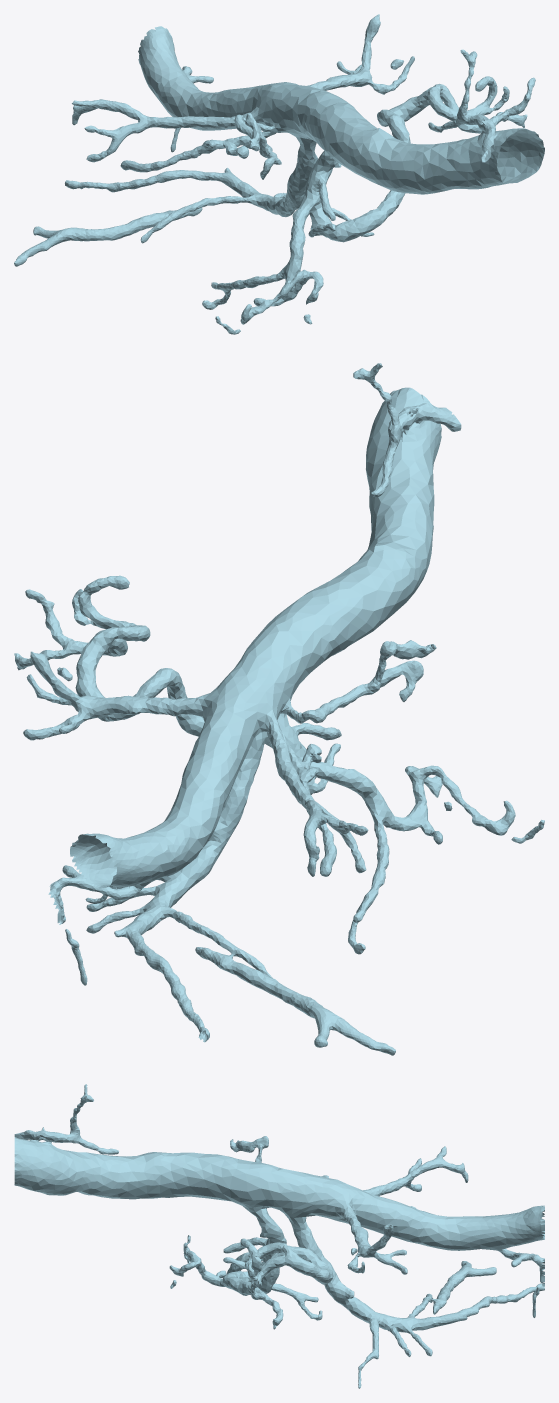
The model's file is artery.obj.
The picture shows the model from 3 angles, top to bottom: view 1: azimuth 30°, elevation 25°; view 2: azimuth 150°, elevation 25°; view 3: azimuth 270°, elevation 25°; orthographic projection. The views are drawn at different scales.
Visible parts, largest first — view 1: grp1; view 2: grp1; view 3: grp1.
Boxes of the visible parts, x1=… form: grp1: x1=14, y1=14, x2=544, y2=334; grp1: x1=14, y1=363, x2=544, y2=1055; grp1: x1=14, y1=1084, x2=544, y2=1388.
Bounding box in the file's own units: 182 × 141 × 239.
